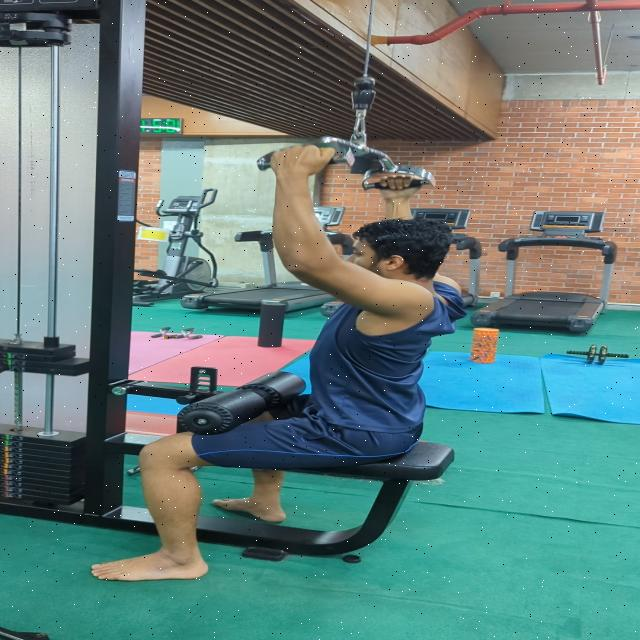Normal_LatPulldown: (68, 138, 492, 595)
